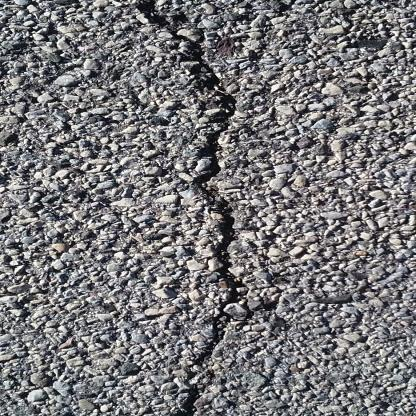Cracks: (33, 0, 249, 416)
